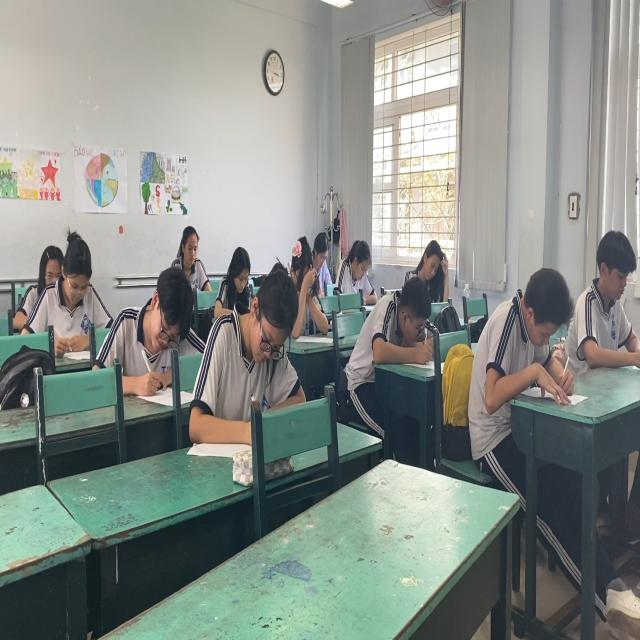not_cheating: (483, 260, 564, 391), (572, 229, 640, 384), (115, 267, 197, 374), (42, 225, 111, 347), (247, 264, 302, 416), (366, 284, 448, 364), (281, 240, 327, 333), (405, 243, 456, 298), (216, 243, 251, 308), (339, 243, 378, 298), (173, 222, 204, 284)
